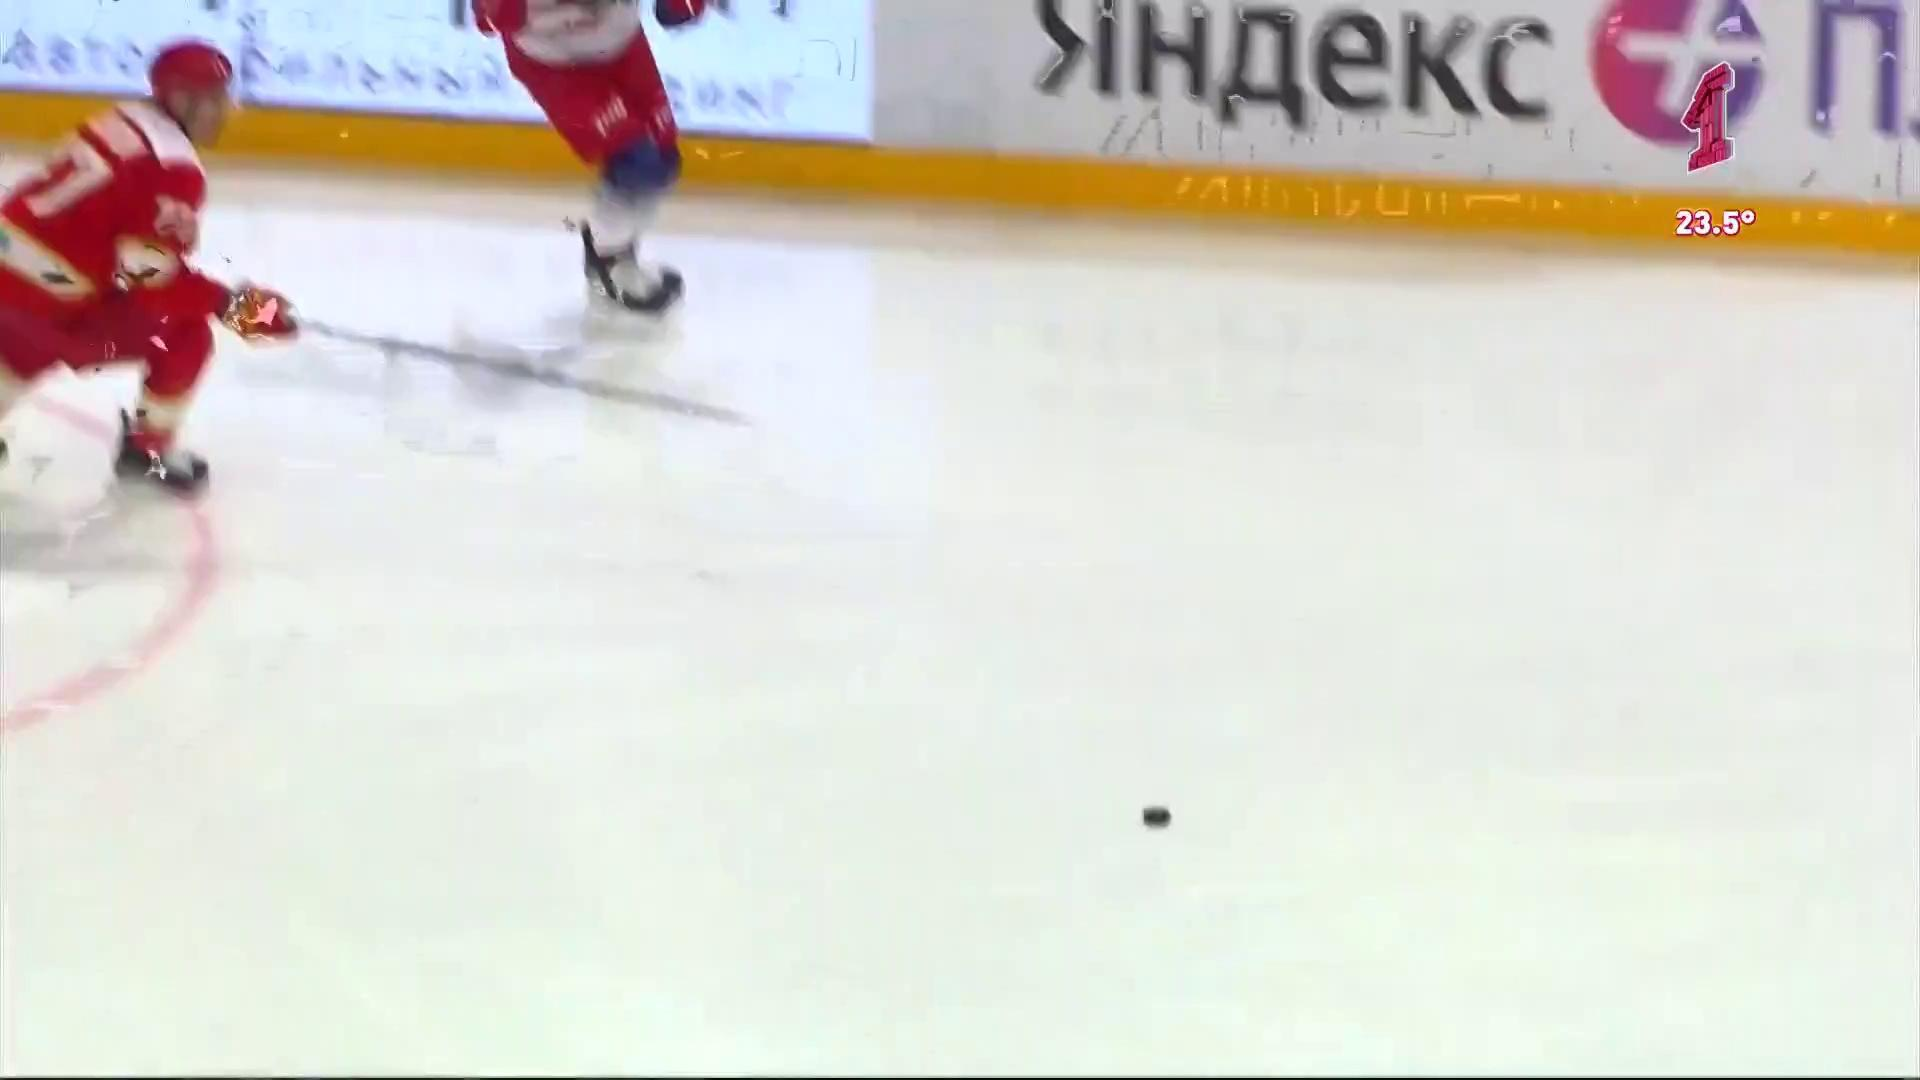ball: (1141, 806, 1175, 829)
